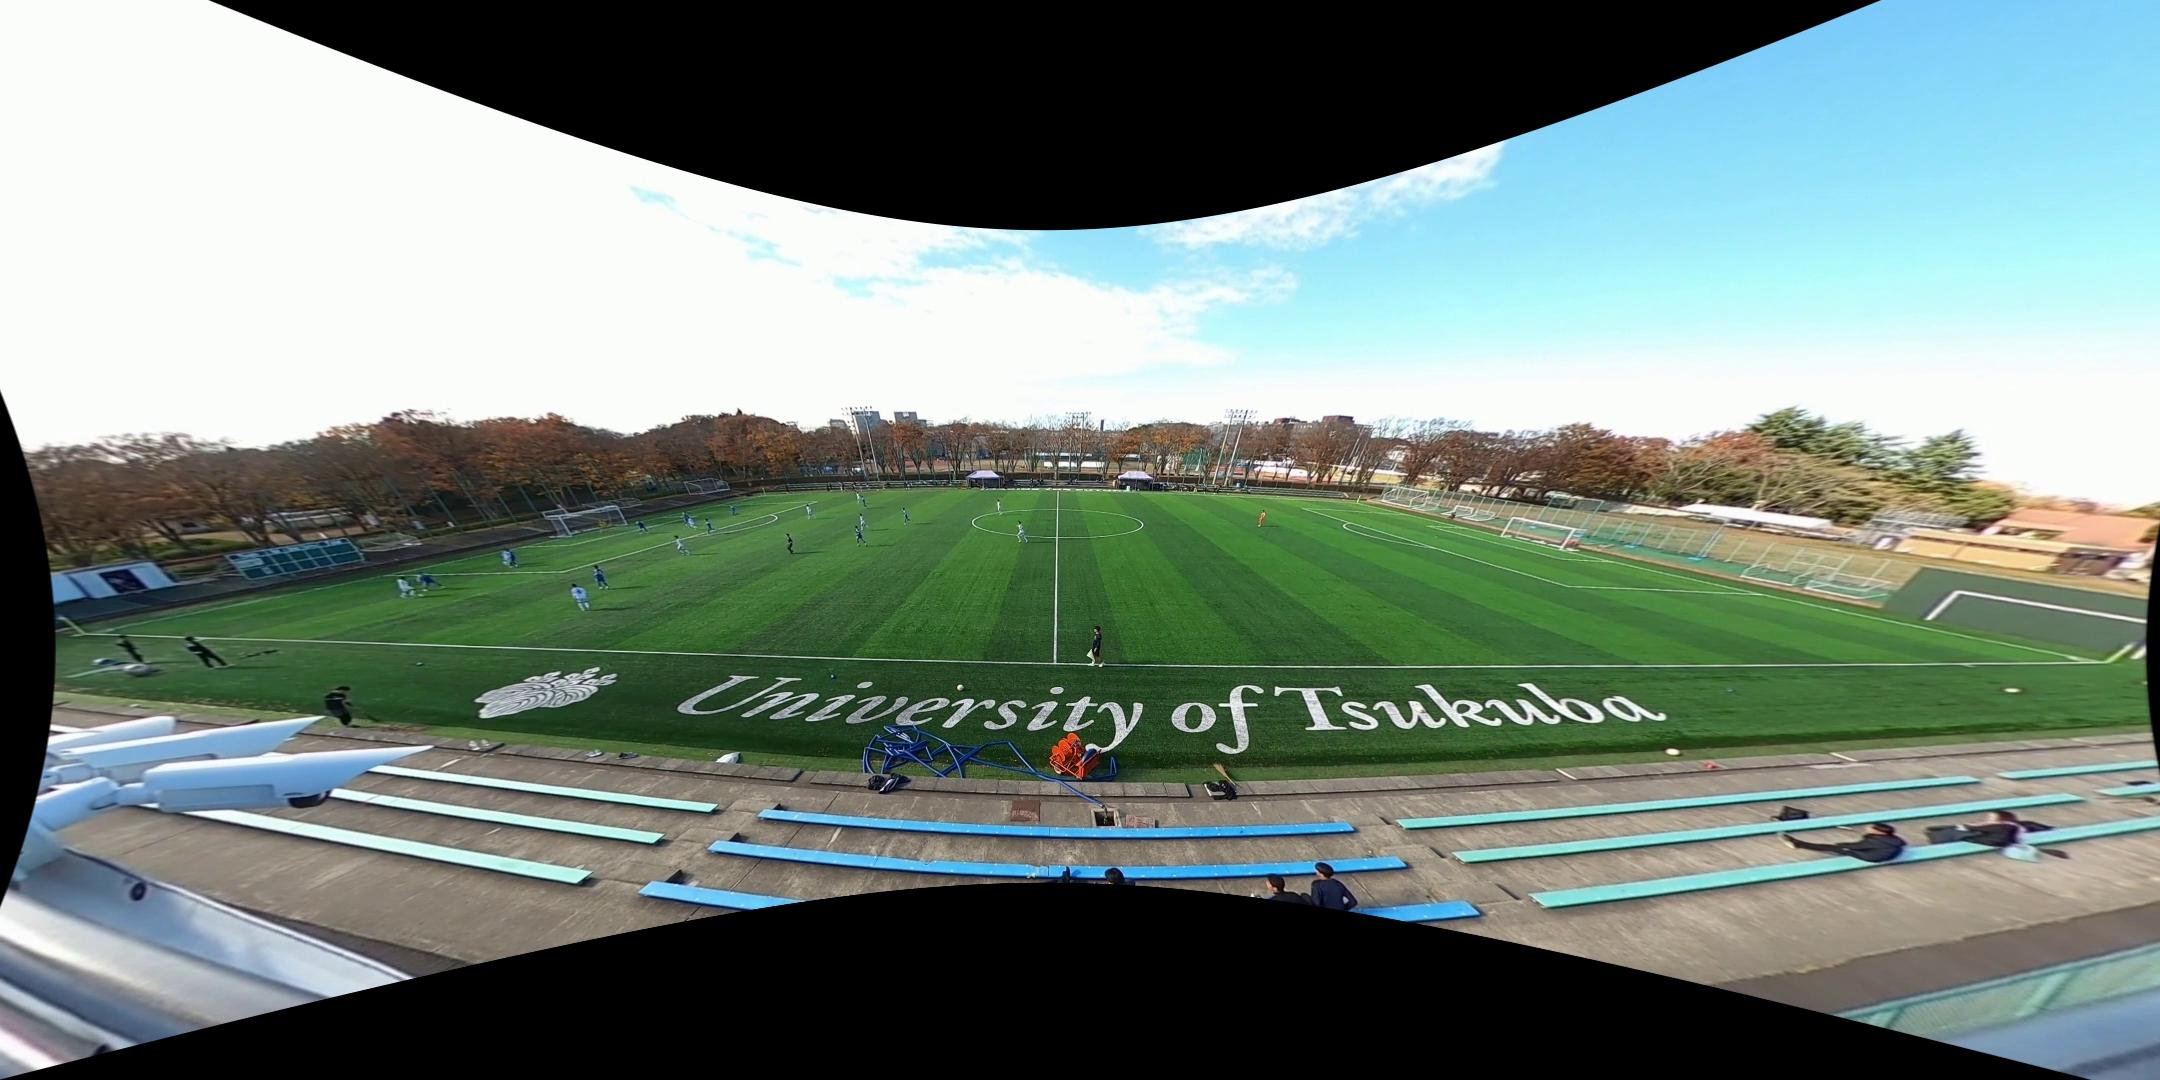person: (1086, 626, 1105, 667), (572, 583, 592, 612), (417, 570, 444, 591), (397, 576, 418, 599), (593, 564, 610, 592), (673, 535, 691, 558), (855, 526, 869, 549), (1016, 520, 1029, 543), (859, 512, 871, 534), (785, 531, 795, 555), (597, 516, 607, 537), (634, 520, 648, 535), (805, 504, 816, 523), (500, 548, 510, 567), (1257, 508, 1267, 527), (901, 508, 911, 525), (705, 519, 716, 534), (510, 548, 518, 568), (682, 511, 691, 527), (995, 498, 1003, 516), (688, 517, 698, 530), (730, 504, 737, 517), (861, 496, 867, 508), (855, 491, 860, 504)
sports ball: (417, 589, 424, 599), (957, 684, 964, 692)
